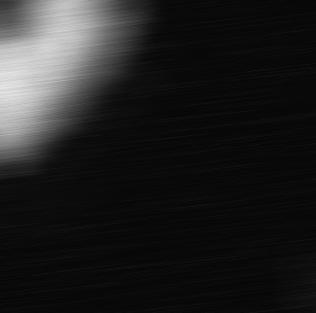Airbag: (0, 0, 316, 313), (298, 1, 316, 313)
